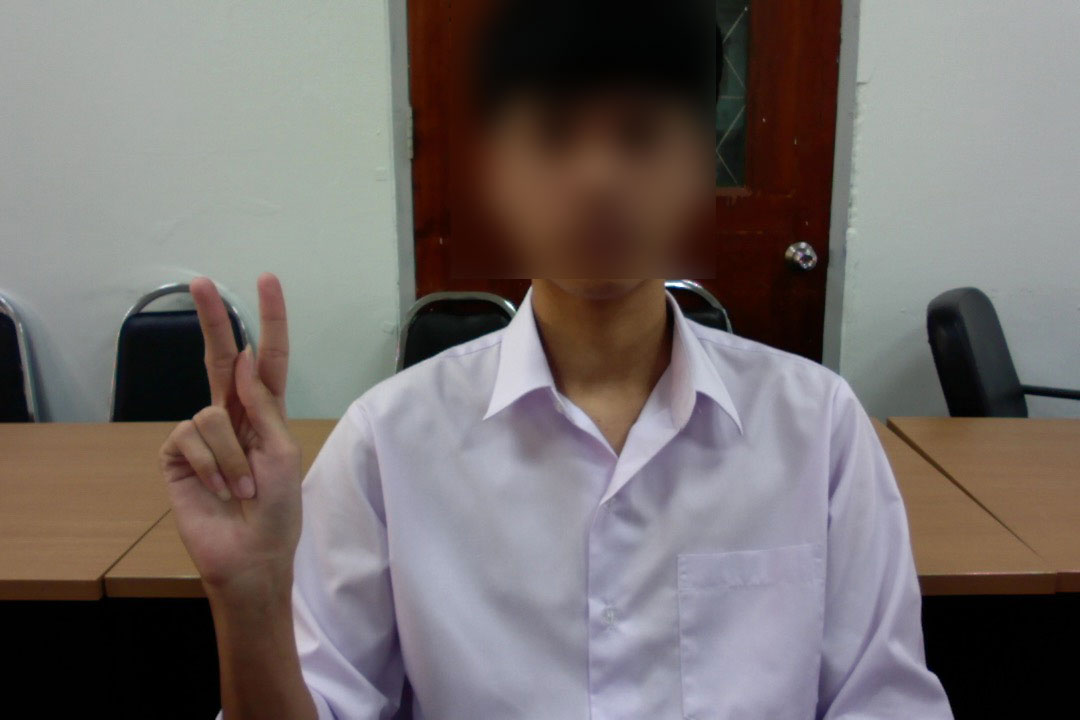ko: (150, 258, 309, 600)
